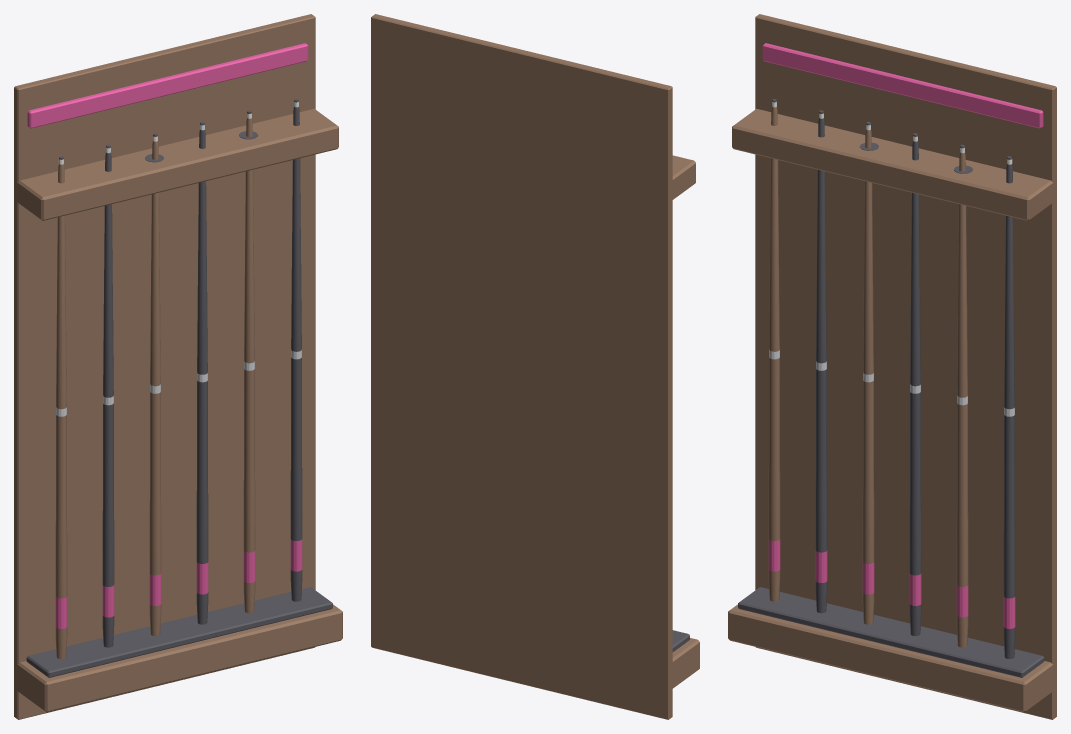
Rendered from bowling-alley-and-pool-hall-cue-rack-wall-62b104ec__33857.glb.
3 renders of one model, left to right at view 1: azimuth 30°, elevation 25°; view 2: azimuth 150°, elevation 25°; view 3: azimuth 330°, elevation 25°, orthographic.
Visible parts, largest first — view 1: cue-rack-wall; view 2: cue-rack-wall; view 3: cue-rack-wall.
Boxes of the visible parts, box(x1,y1,x2,y2) form: cue-rack-wall: box(14, 14, 342, 719); cue-rack-wall: box(371, 14, 699, 719); cue-rack-wall: box(728, 14, 1056, 719).
Size of the model in its own units: 0.9199 by 1.86 by 0.1719.
